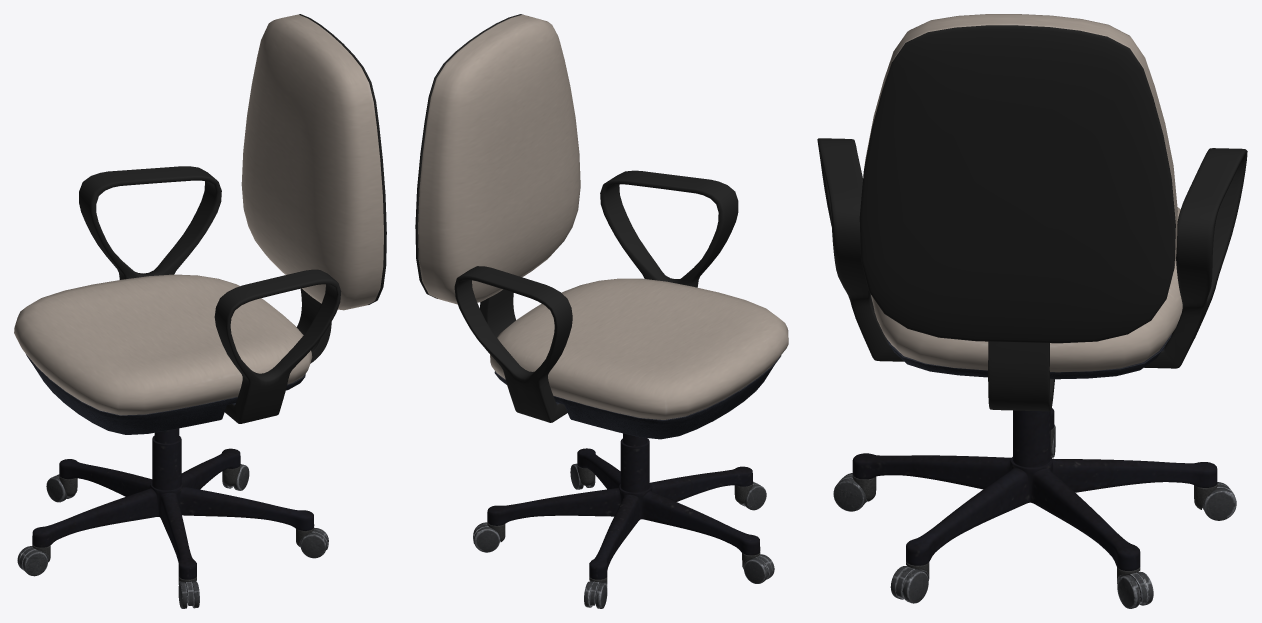
File: chair.glb
The picture shows the model from 3 angles, left to right: view 1: azimuth 30°, elevation 25°; view 2: azimuth 150°, elevation 25°; view 3: azimuth 270°, elevation 25°; orthographic projection. The views are drawn at different scales.
Parts seen in each view (by area): view 1: office-chair; view 2: office-chair; view 3: office-chair.
Boxes of the visible parts, x1,y1,x2,y2 form: office-chair: (14, 14, 386, 608); office-chair: (415, 14, 788, 608); office-chair: (817, 14, 1247, 608).
Size of the model in its own units: 0.6614 by 0.966 by 0.6162.
Materials: 10 (10 with a texture image).
